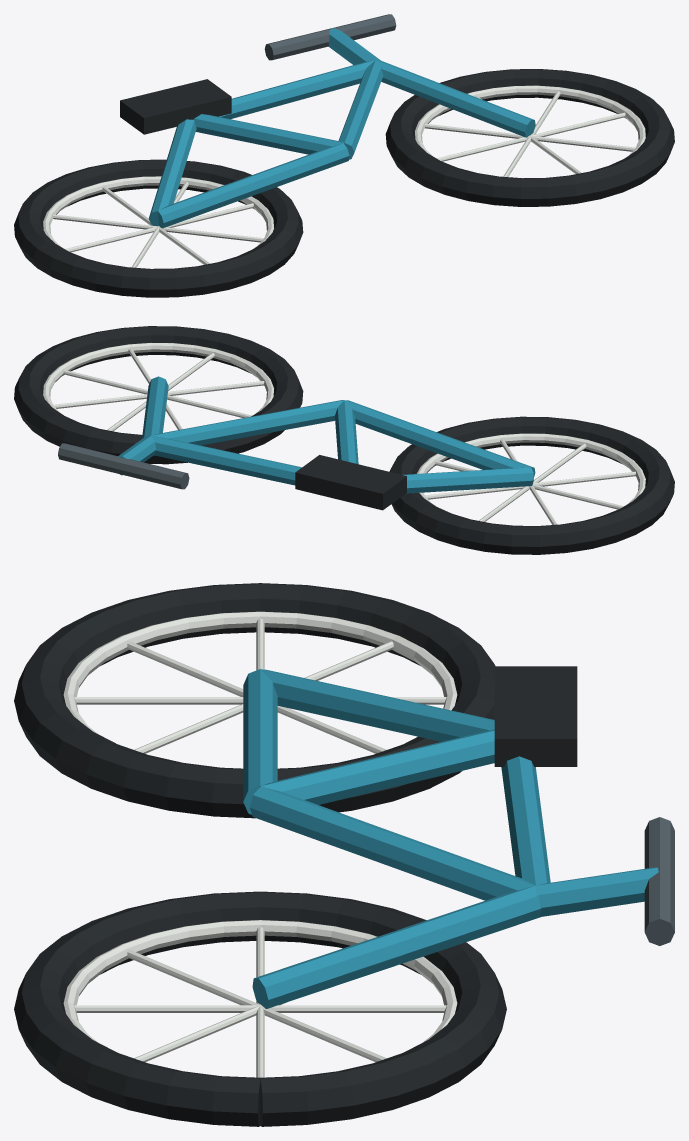
Rendered from SAF_FALLEN_BICYCLE_01.fbx.
3 renders of one model, top to bottom at view 1: azimuth 30°, elevation 25°; view 2: azimuth 150°, elevation 25°; view 3: azimuth 270°, elevation 25°, orthographic. The views are drawn at different scales.
Parts seen in each view (by area): view 1: SAF_FALLEN_BICYCLE_01; view 2: SAF_FALLEN_BICYCLE_01; view 3: SAF_FALLEN_BICYCLE_01.
Part boxes in pixels (x1,y1,x2,y2): SAF_FALLEN_BICYCLE_01: (14,14,674,297); SAF_FALLEN_BICYCLE_01: (14,326,674,554); SAF_FALLEN_BICYCLE_01: (14,583,674,1126).
Bounding box in the file's own units: 178 × 16.55 × 96.
